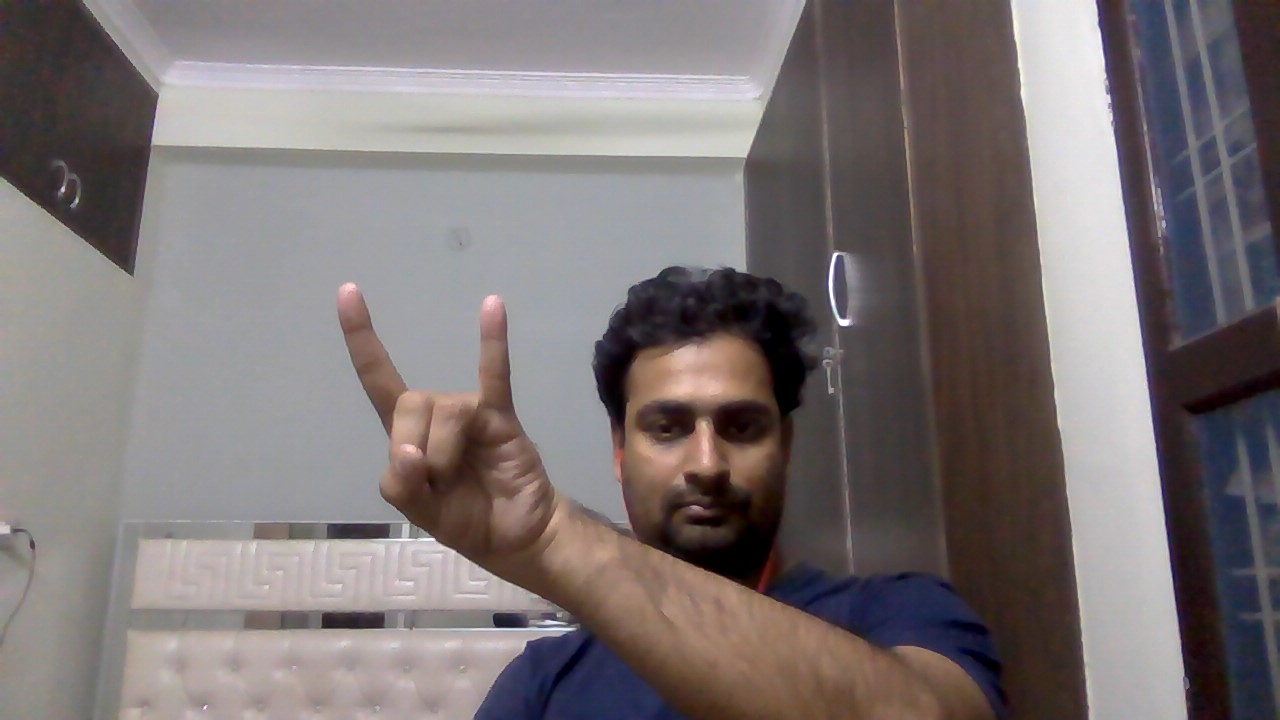Select All: (321, 272, 557, 566)
